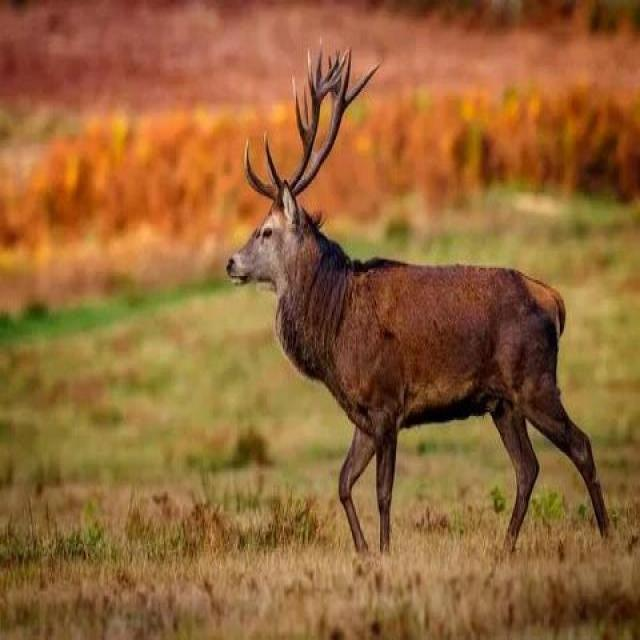deer: (205, 79, 587, 576)
